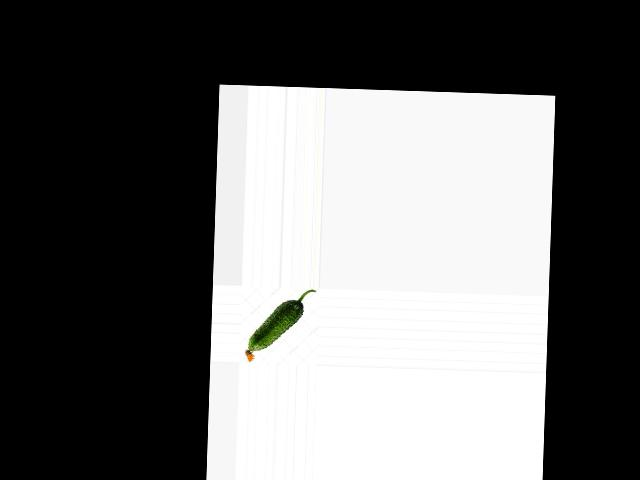cucumber: (244, 287, 316, 364)
